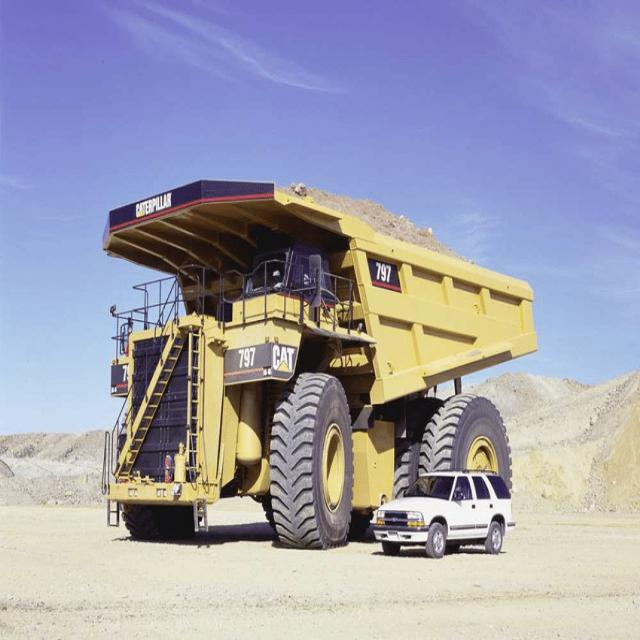dump_truck: (81, 164, 536, 544)
light_vehicle: (366, 460, 525, 560)
